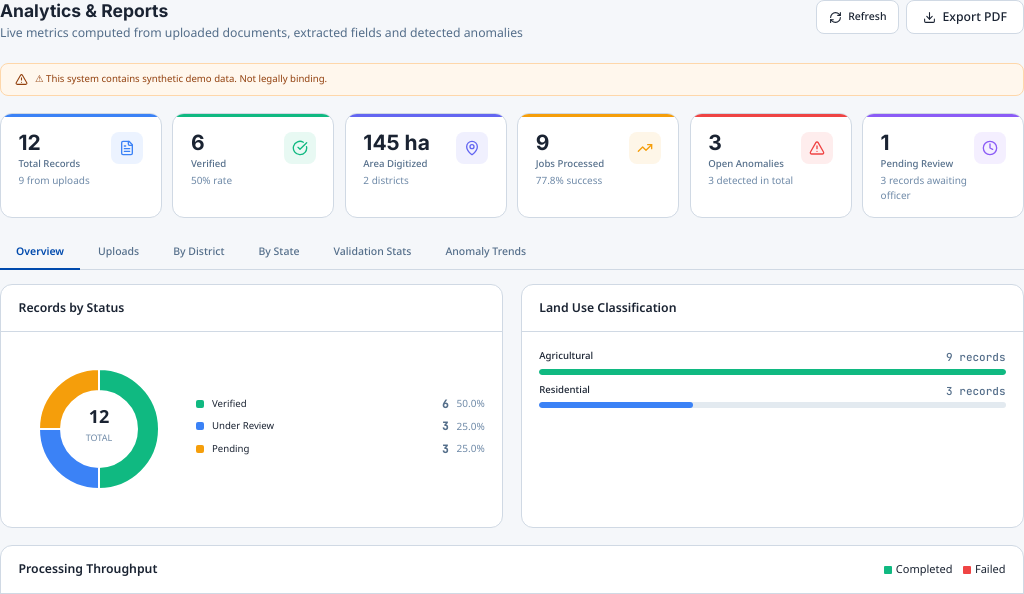
ReportsPage with live analytics › shows field pass rates and accuracy from the pipeline
Click the button "Validation Stats": click(372, 253) [318,236,428,270]
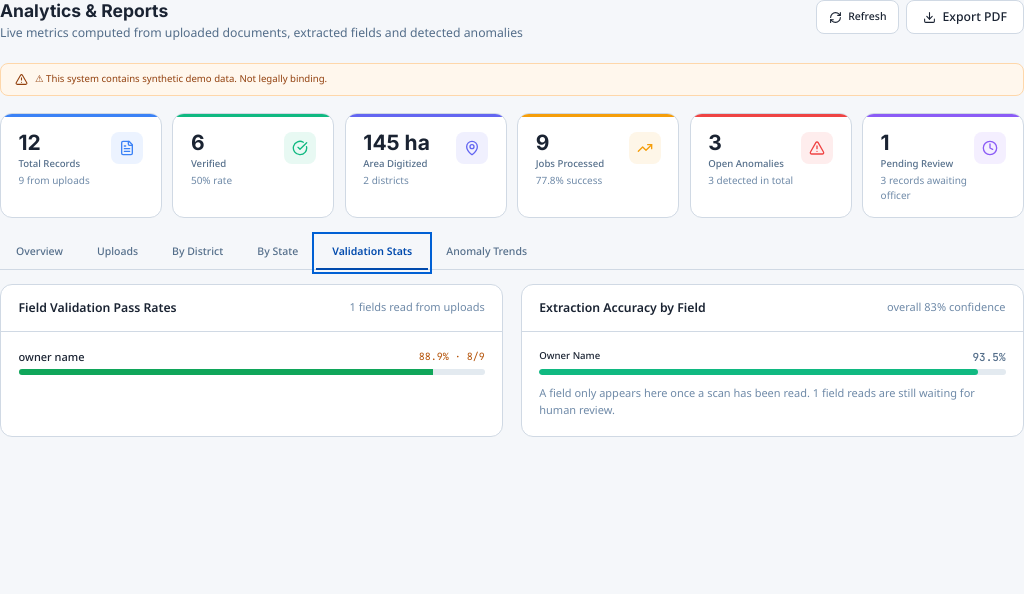
Expected: the text "Field Validation Pass Rates" is shown, [18,298,177,317]
Expected: the text "1 fields read from uploads" is shown, [350,299,485,316]
Expected: the text "88.9% · 8/9" is shown, [419,349,485,366]
